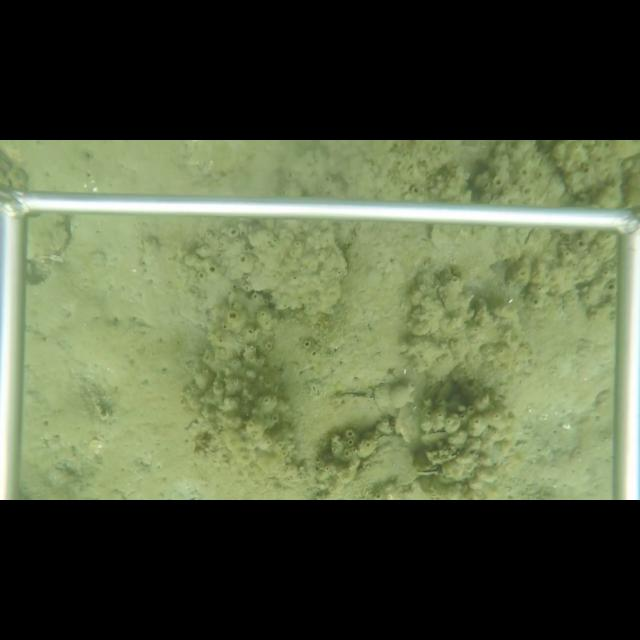Oyster-Closed: (187, 217, 352, 316), (26, 216, 73, 262)
Oyster-Open: (332, 390, 388, 417), (431, 277, 465, 314), (420, 428, 449, 445), (411, 462, 444, 476)
